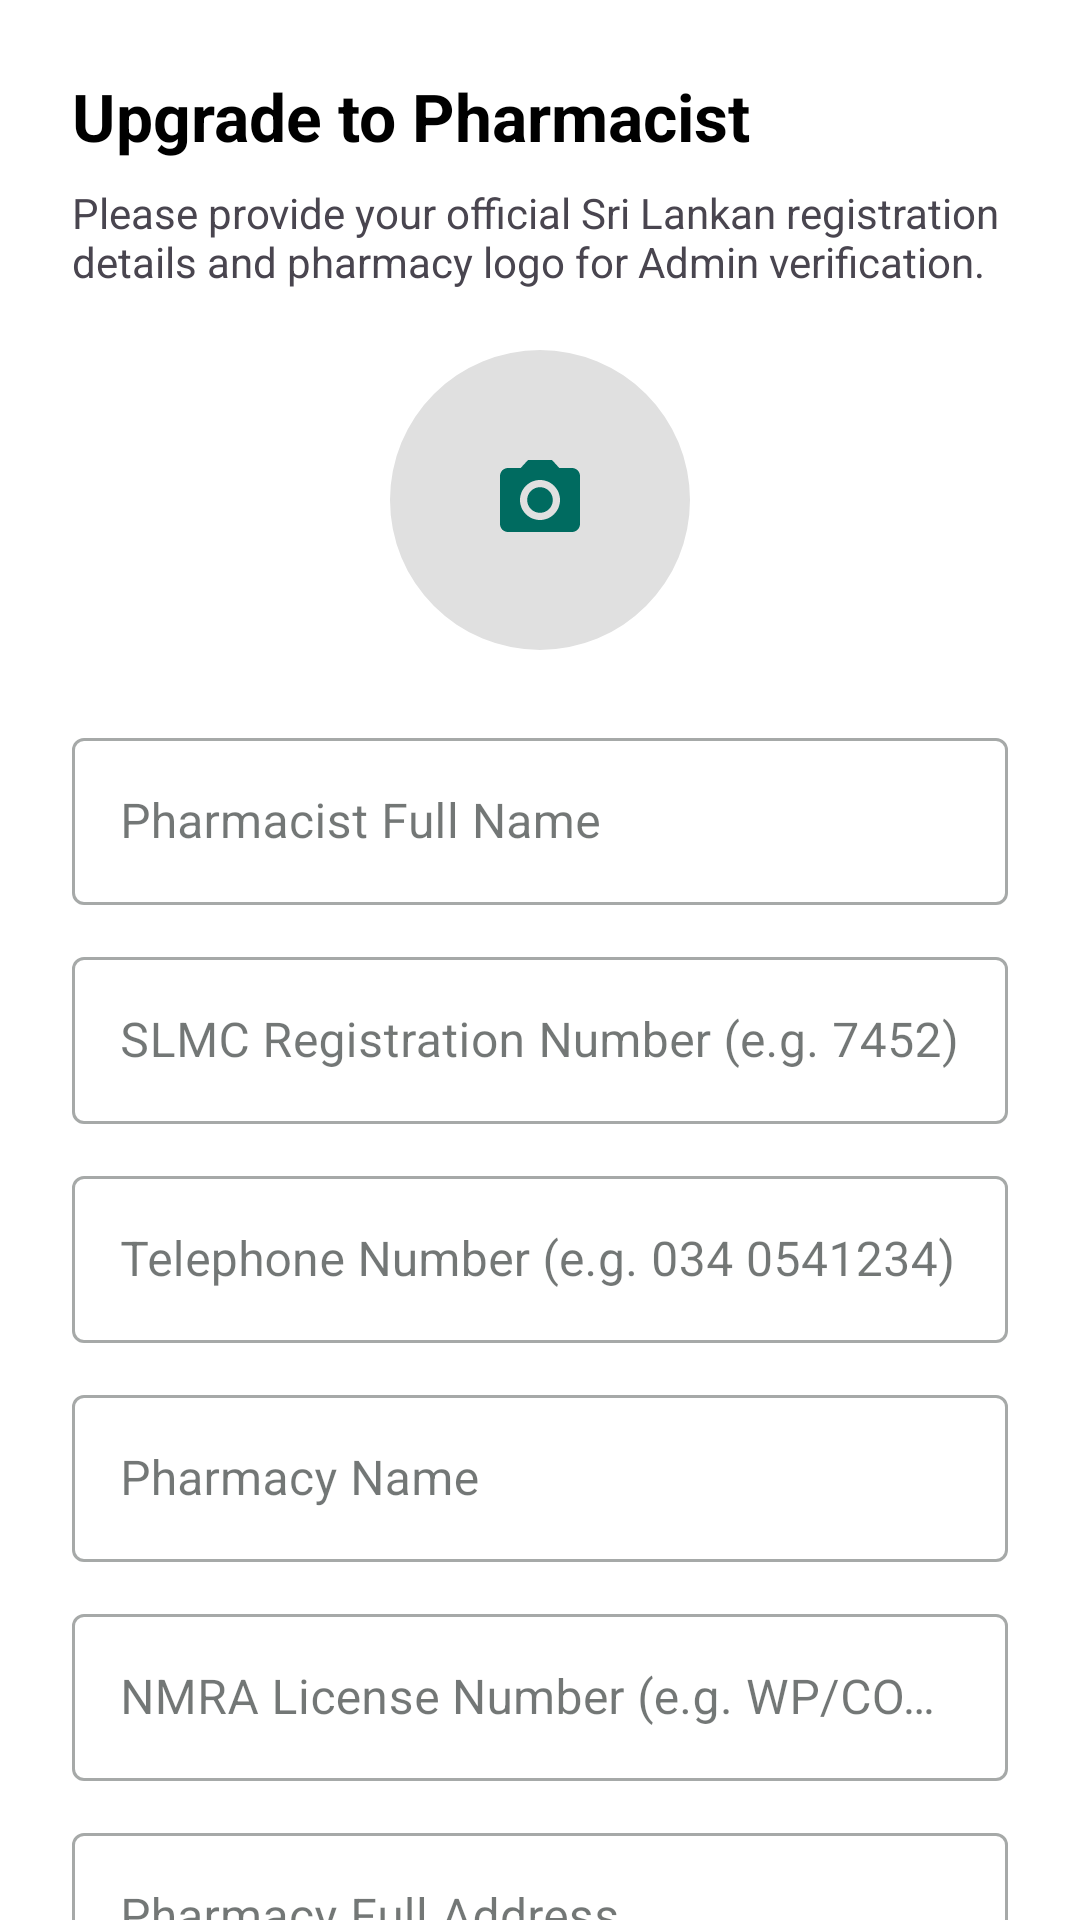

Screen size 1080px x 1920px. Icon name, then its box in pixels as (x1, y1, x2, y2):
camera: (500, 460, 580, 532)
